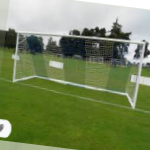goals: (10, 28, 147, 113)
